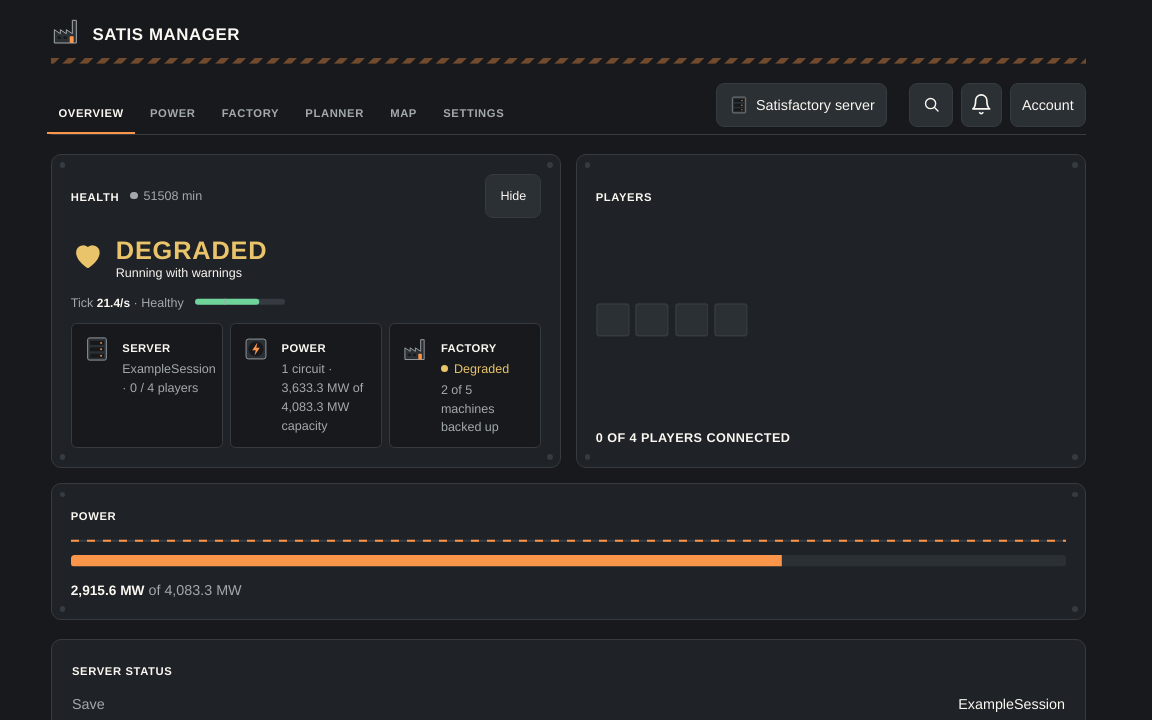
Test: the Planner tab › is a tab in the nav, after Factory, and follows the page
Click the link "Planner" at (335, 111), box [305,102,364,120]
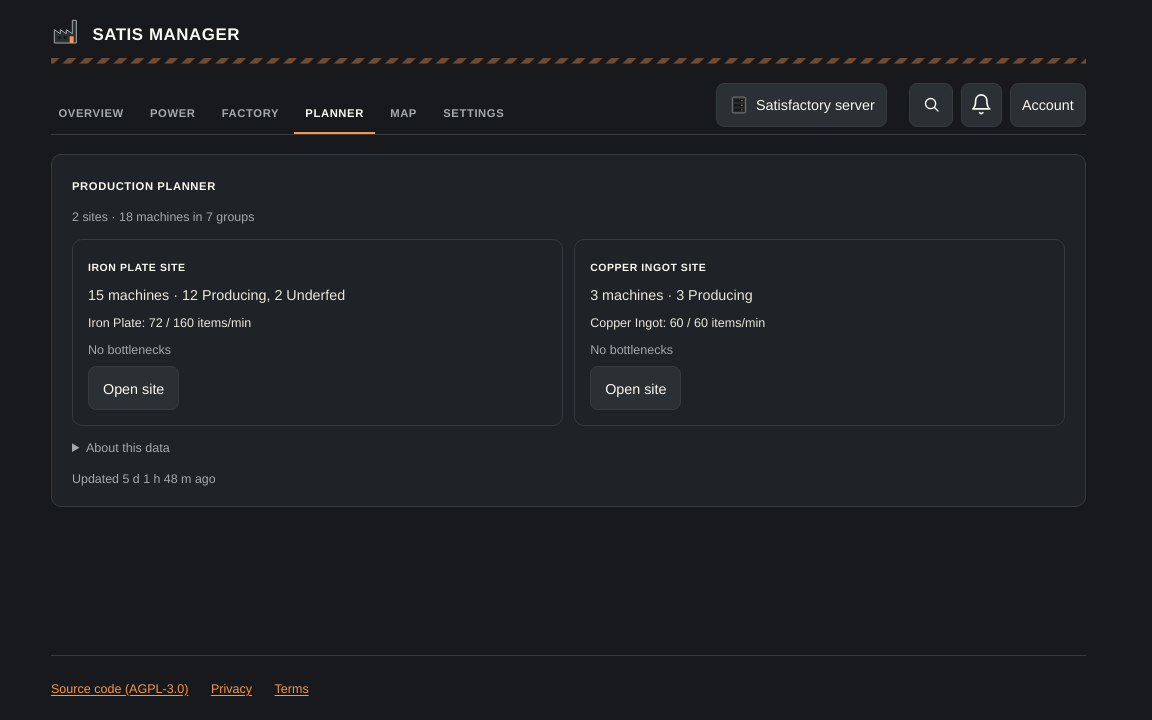
Expected: the element "Production planner" is shown, [51,154,1086,507]
